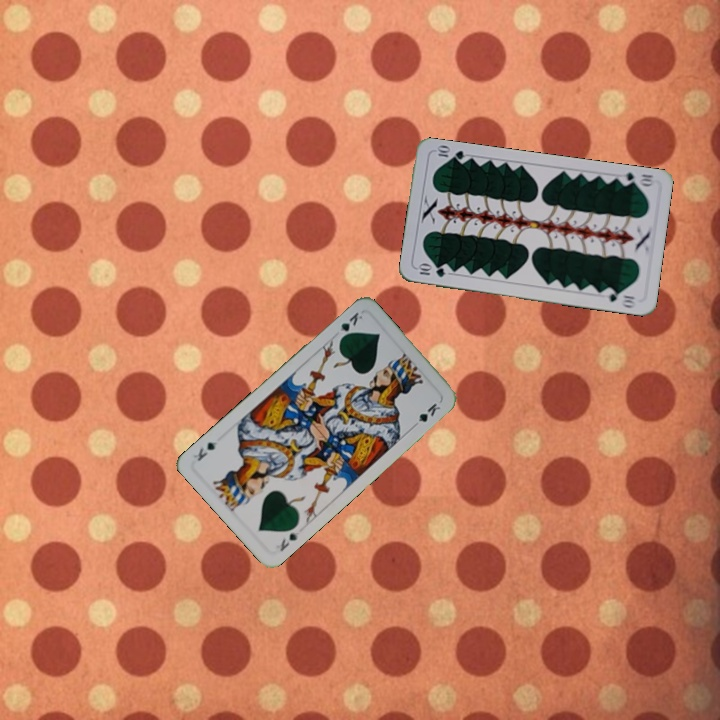G10: (616, 168, 657, 189), (415, 261, 448, 280)
GK: (335, 308, 365, 343), (272, 527, 302, 554)
